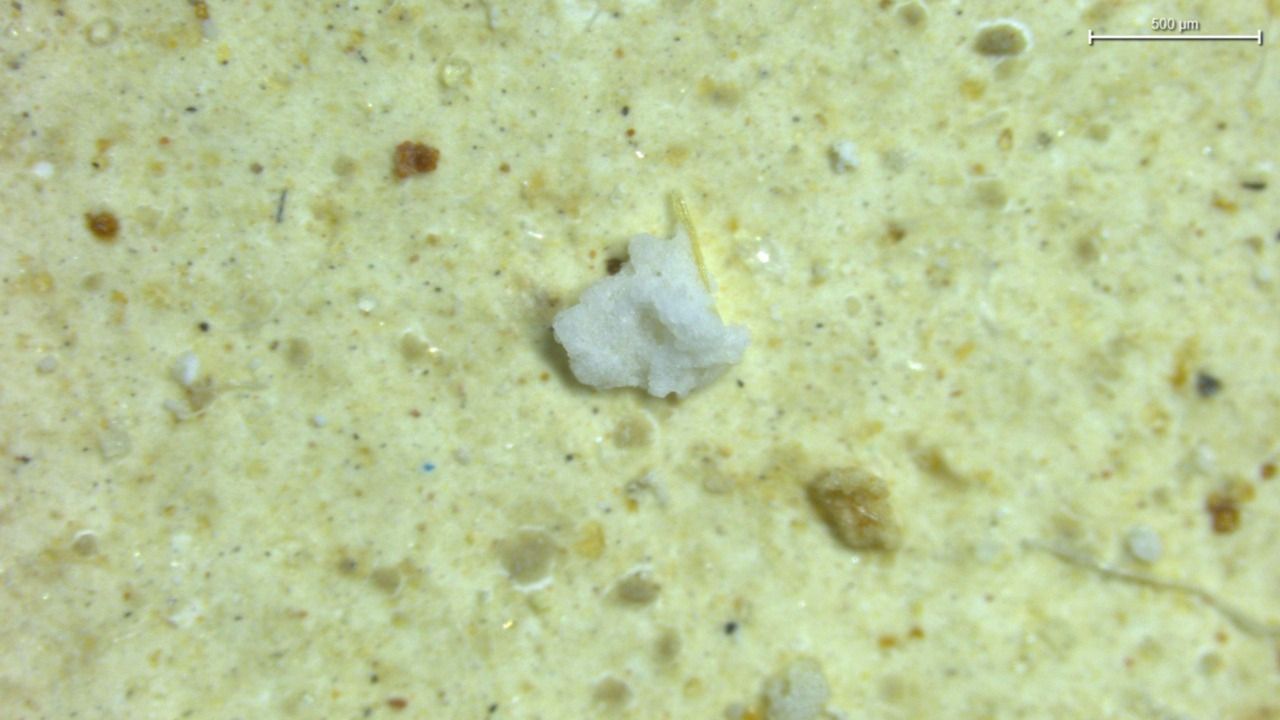microplastic_fragment: (552, 228, 749, 397), (807, 468, 900, 549)
